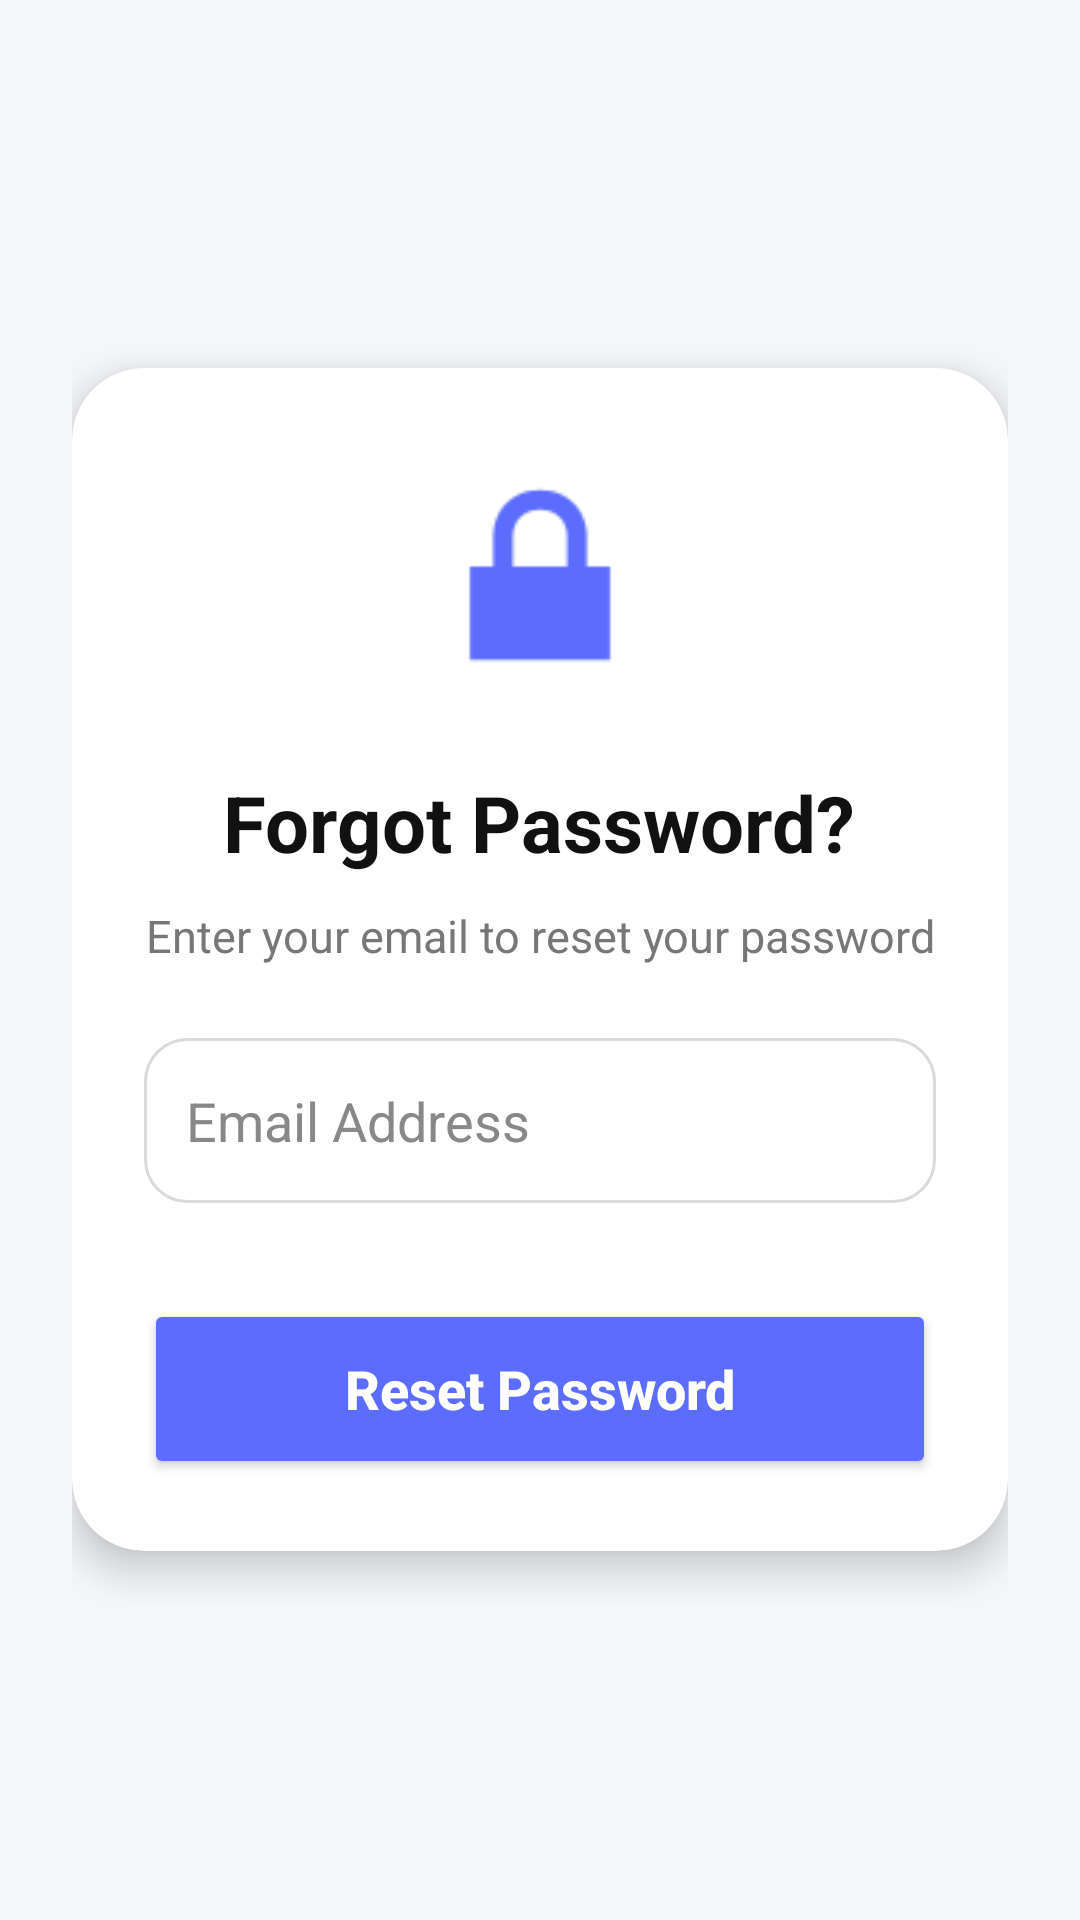

Where to tap for icons on this 1080x1920 app screen, as point (x, y):
lock: point (540, 575)
